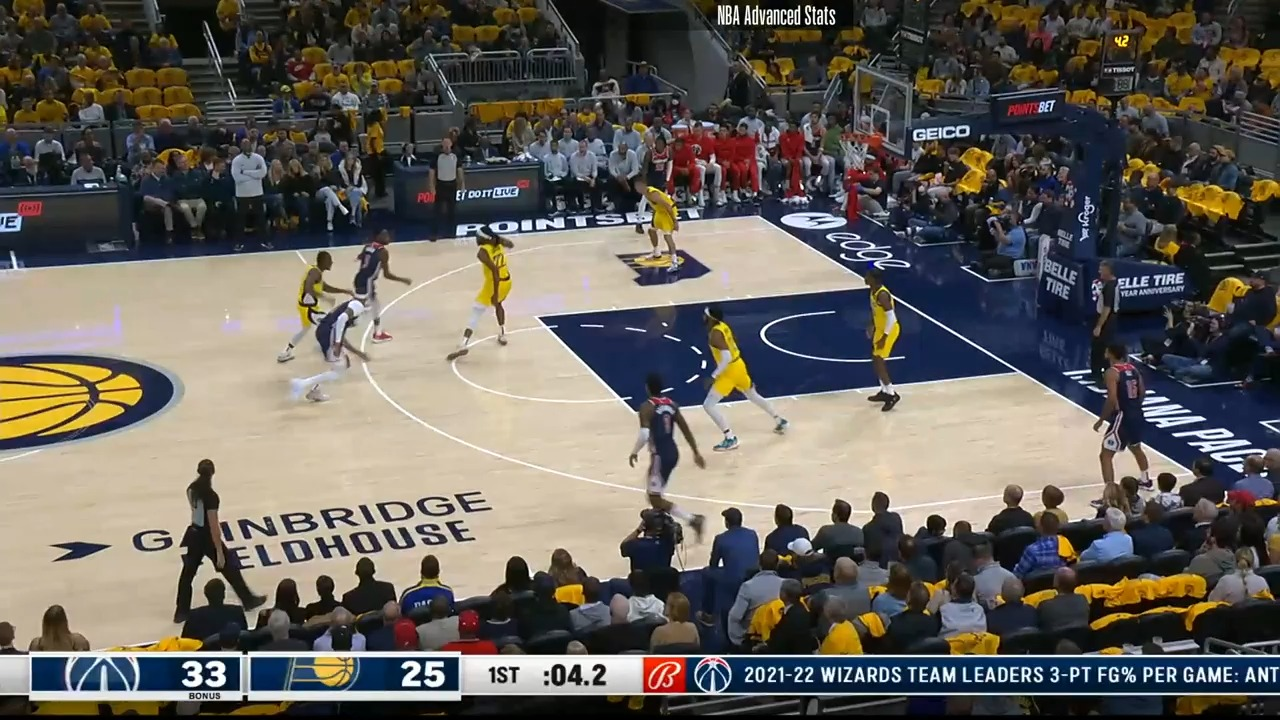net: (837, 128, 885, 171)
player: (692, 301, 790, 451), (628, 373, 709, 538), (288, 286, 389, 414), (1091, 338, 1158, 495), (451, 224, 514, 363), (274, 252, 341, 373), (352, 227, 414, 348), (855, 270, 902, 418), (640, 176, 688, 283), (635, 136, 682, 240)
referee: (168, 458, 270, 626), (1082, 257, 1120, 386), (422, 133, 464, 248)
